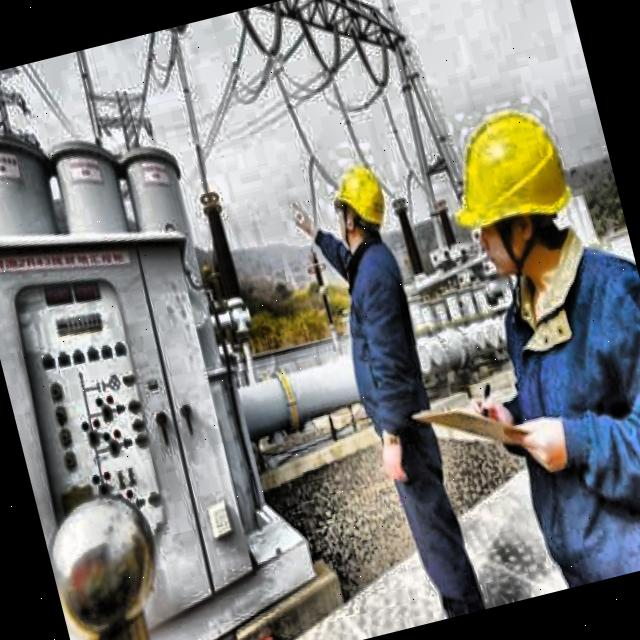helmet: (432, 83, 600, 305), (320, 149, 399, 254)
